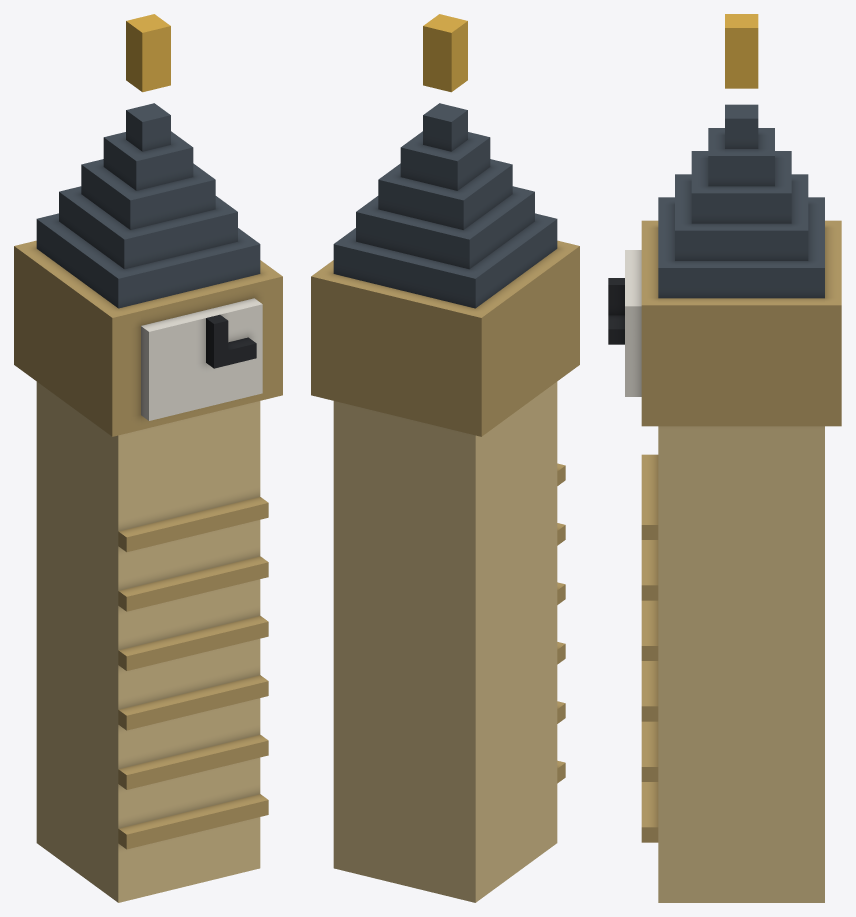
Rendered from w_clock.glb.
3 views of the same model, side by side, from view 1: azimuth 30°, elevation 25°; view 2: azimuth 150°, elevation 25°; view 3: azimuth 270°, elevation 25° (orthographic).
Parts seen in each view (by area): view 1: w_clock_body; view 2: w_clock_body; view 3: w_clock_body.
Part boxes in pixels (x1,y1,x2,y2): w_clock_body: (14,14,282,902); w_clock_body: (311,14,579,902); w_clock_body: (608,14,841,902).
Size of the model in its own units: 0.75 by 3.5 by 0.875.
1 material, 1 textured.
